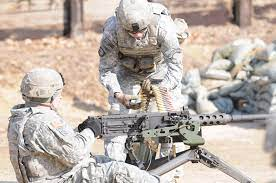gun: (82, 111, 238, 153)
